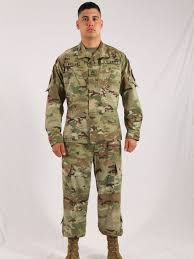uniform: (59, 45, 124, 244)
